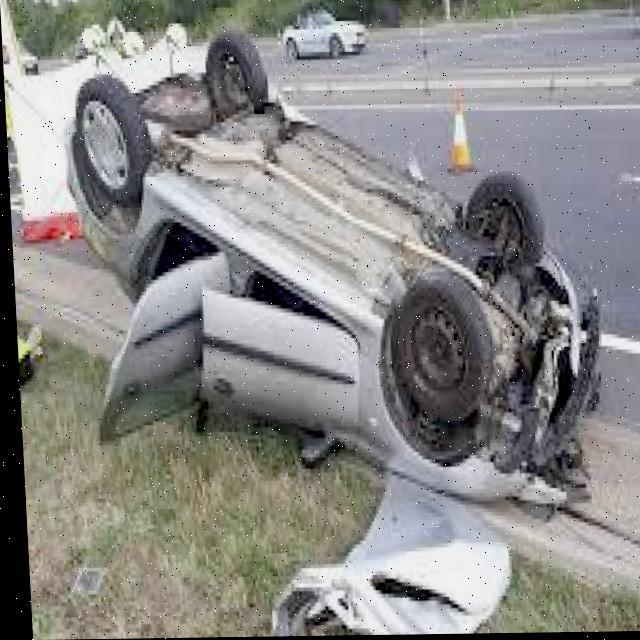single accident: (15, 15, 640, 623)
